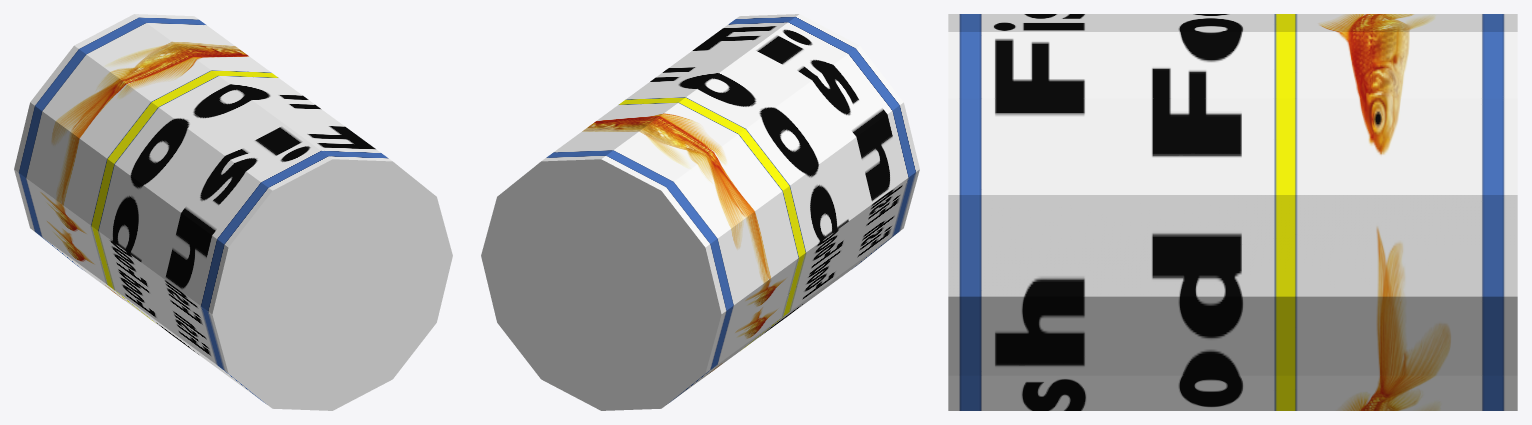
File: fishfood.obj
3 renders of one model, left to right at view 1: azimuth 30°, elevation 25°; view 2: azimuth 150°, elevation 25°; view 3: azimuth 270°, elevation 25°, orthographic. The views are drawn at different scales.
Size of the model in its own units: 0.7 by 0.7 by 1.
